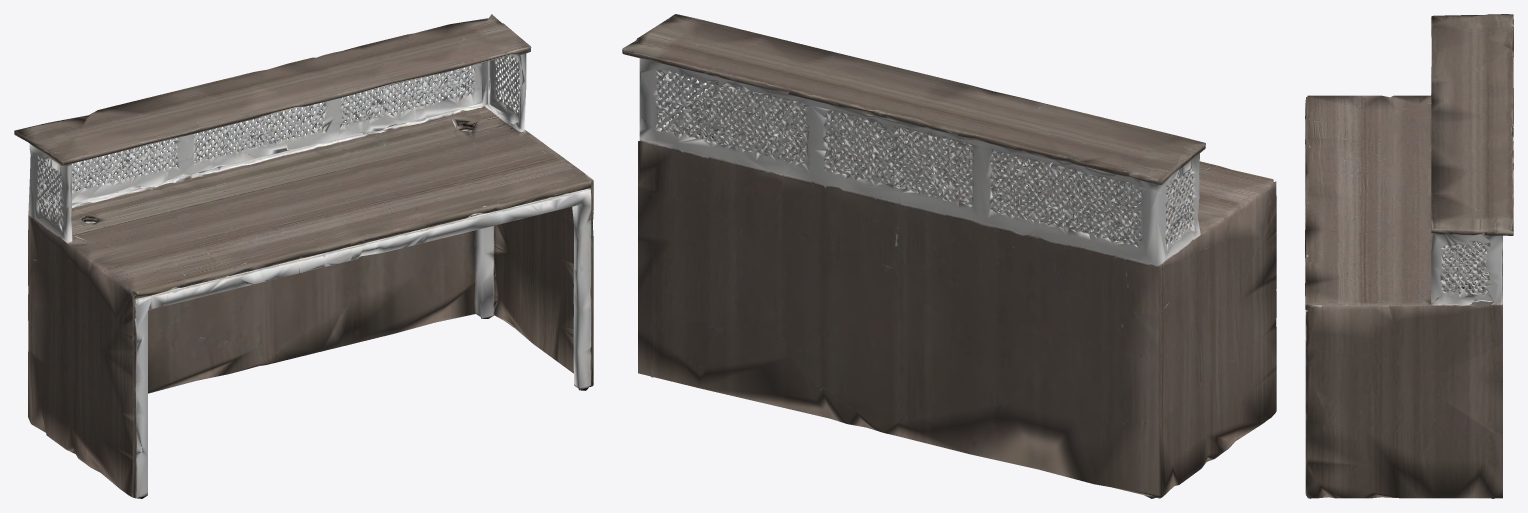
The model's file is balcao.glb.
3 views of the same model, side by side, from view 1: azimuth 30°, elevation 25°; view 2: azimuth 150°, elevation 25°; view 3: azimuth 270°, elevation 25° (orthographic). The views are drawn at different scales.
Bounding box in the file's own units: 1.88 × 1.1 × 0.76.
Materials: 1 (1 with a texture image).
